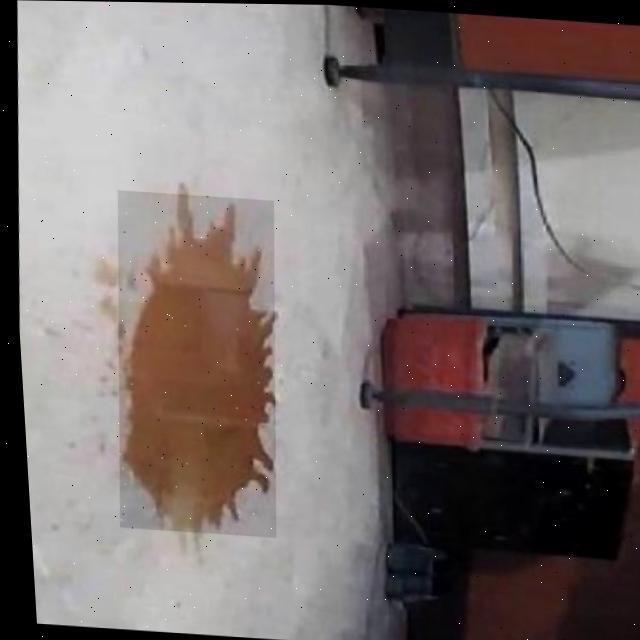spillage: (113, 194, 269, 532)
